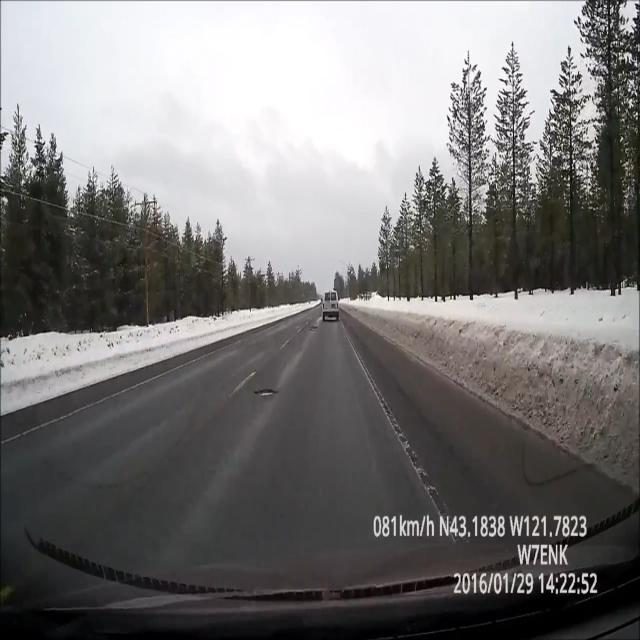Pothole: (253, 379, 278, 407)
